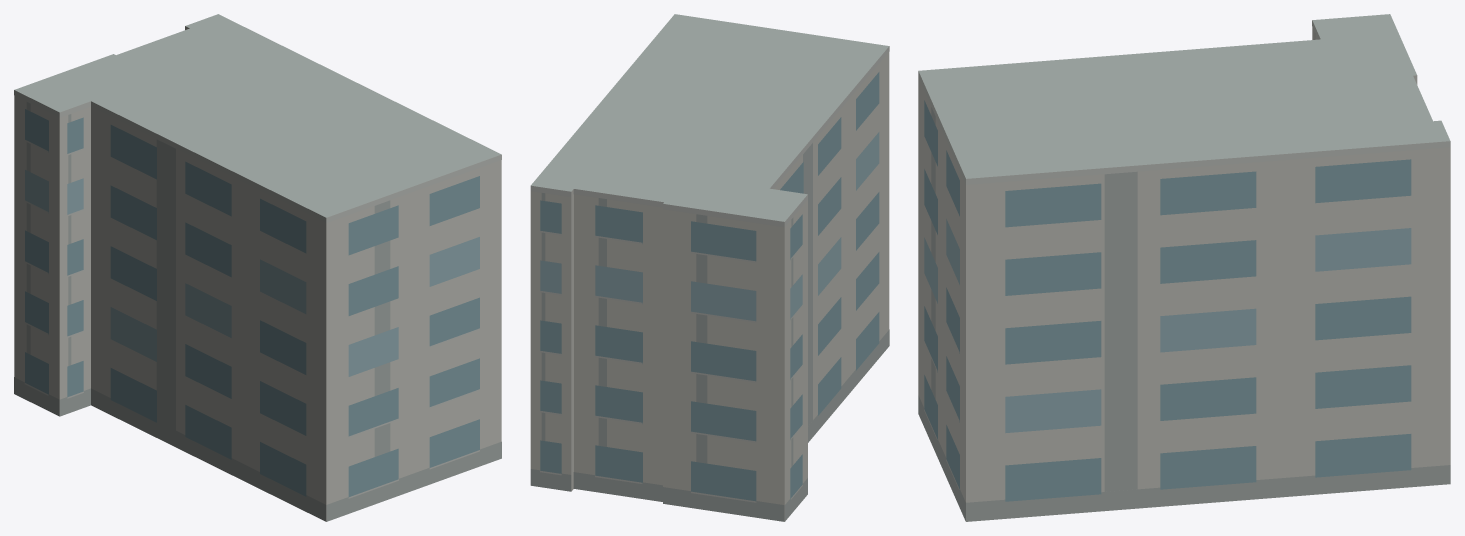
The model's file is survey-upis-32935895.glb.
3 views of the same model, side by side, from view 1: azimuth 30°, elevation 25°; view 2: azimuth 150°, elevation 25°; view 3: azimuth 270°, elevation 25° (orthographic). The views are drawn at different scales.
Visible parts, largest first — view 1: survey-upis-32935895.tmp; view 2: survey-upis-32935895.tmp; view 3: survey-upis-32935895.tmp.
Part boxes in pixels (bbox=[...]): survey-upis-32935895.tmp: bbox=[14, 14, 501, 521]; survey-upis-32935895.tmp: bbox=[530, 14, 889, 521]; survey-upis-32935895.tmp: bbox=[918, 14, 1450, 521].
Bounding box in the file's own units: 13.88 × 13.45 × 18.92.
